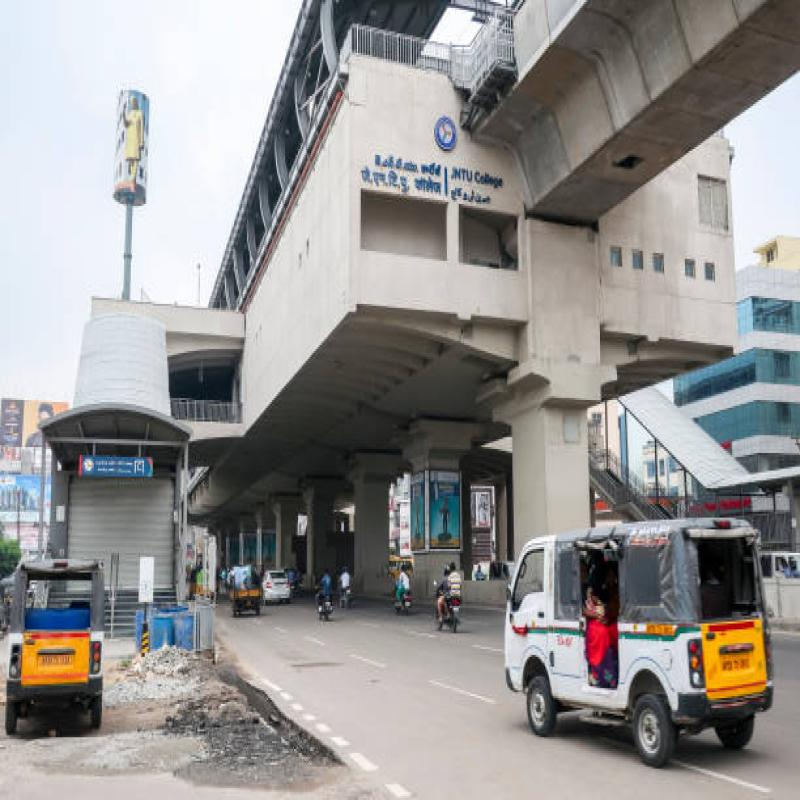car: (497, 526, 766, 733)
